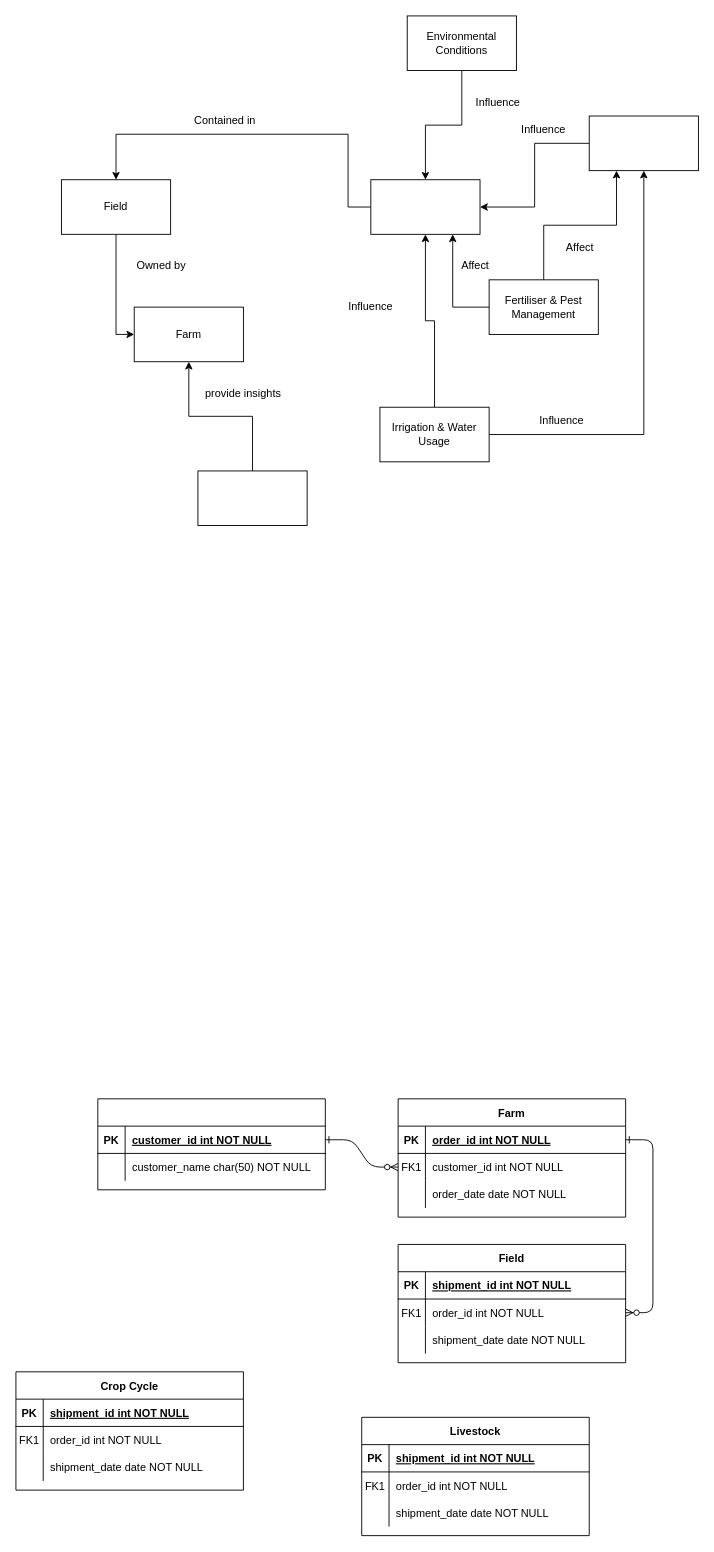
Image size: 714x1552. Some labels were removed from this diagram. The box of each missing label's shape, as (x1, y1, x2, y2) in pixels:
Crop: (370, 179, 480, 234)
Owner: (97, 1098, 325, 1190)
Smart Farm Derived Metrics: (197, 470, 307, 526)
Soil Properties: (588, 115, 698, 171)
